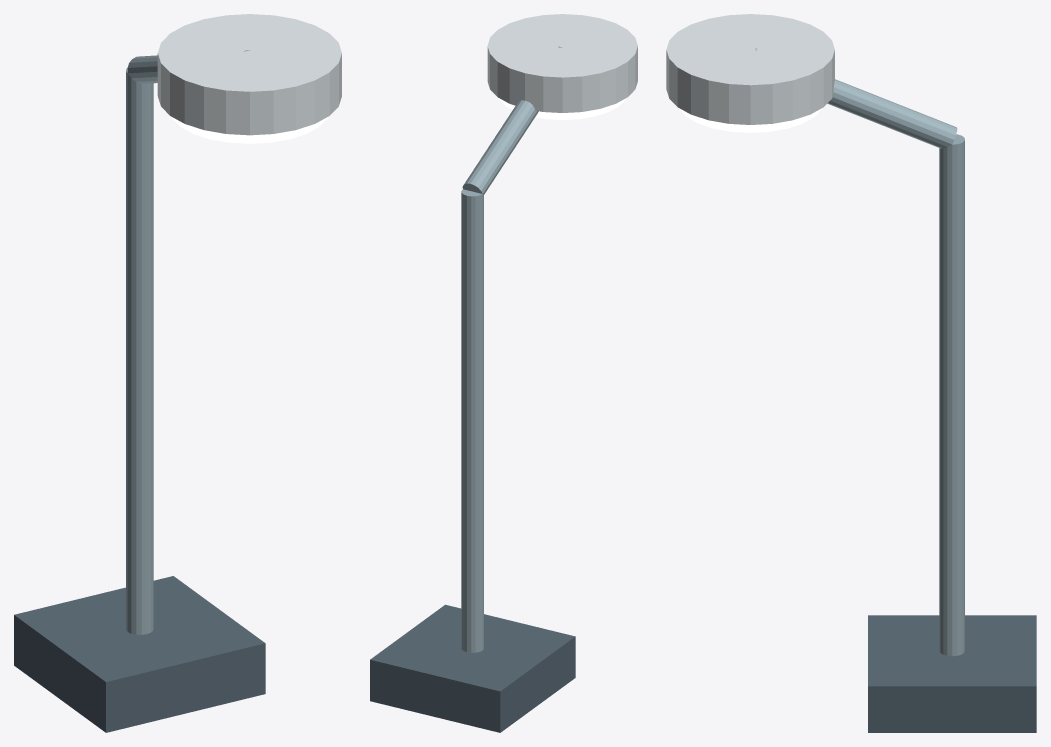
The model's file is exam_lamp.glb.
The picture shows the model from 3 angles, left to right: view 1: azimuth 30°, elevation 25°; view 2: azimuth 150°, elevation 25°; view 3: azimuth 270°, elevation 25°; orthographic projection. The views are drawn at different scales.
Visible parts, largest first — view 1: dark_0, ivory_3, steel_1, white_4, steel_2; view 2: dark_0, ivory_3, steel_1, steel_2, white_4; view 3: dark_0, ivory_3, steel_1, steel_2, white_4.
Boxes of the visible parts, <box> form: dark_0: <box>14,576,265,732</box>; ivory_3: <box>157,14,341,135</box>; steel_1: <box>126,68,153,634</box>; white_4: <box>172,117,327,143</box>; steel_2: <box>127,50,250,83</box>; dark_0: <box>370,604,575,732</box>; ivory_3: <box>487,14,637,112</box>; steel_1: <box>461,189,483,652</box>; steel_2: <box>462,46,562,194</box>; white_4: <box>499,98,625,119</box>; dark_0: <box>868,615,1036,732</box>; ivory_3: <box>666,14,834,124</box>; steel_1: <box>939,134,964,656</box>; steel_2: <box>755,48,957,148</box>; white_4: <box>679,108,821,132</box>.
Bounding box in the file's own units: 0.46 × 1.95 × 1.01.
